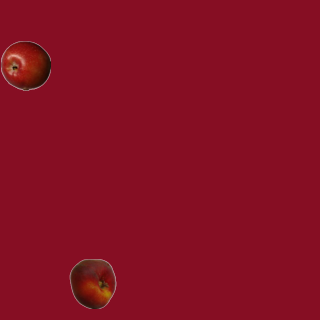Apple Braeburn: (0, 40, 50, 90)
Nectarine Flat: (67, 258, 117, 308)
